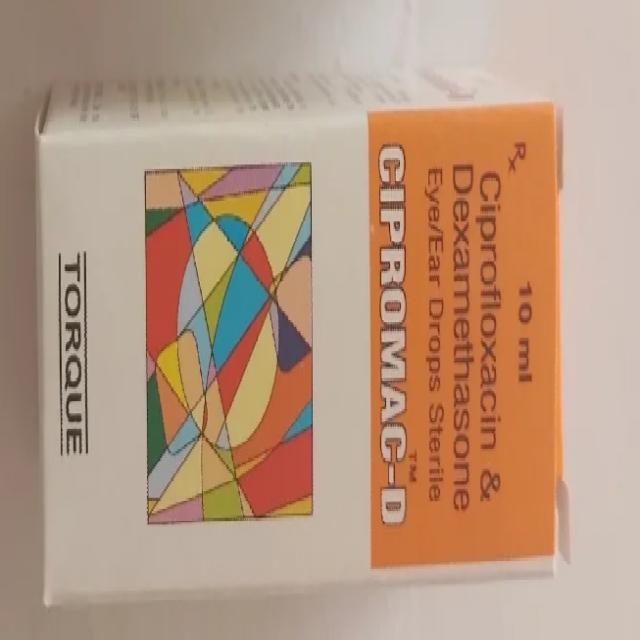drug-name: (378, 138, 410, 530)
